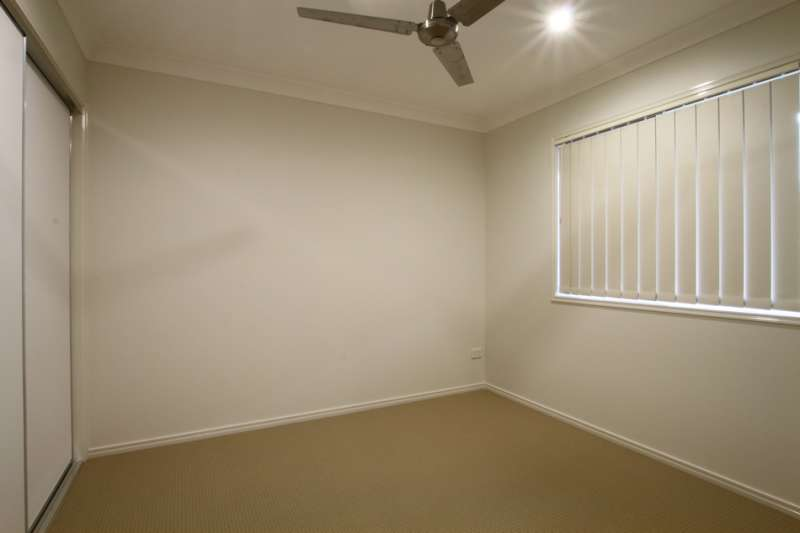ceiling fan: (295, 1, 519, 101)
